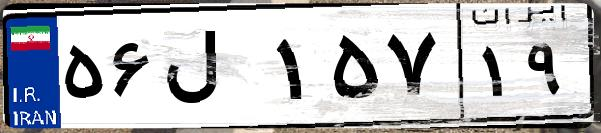1: (270, 28, 330, 110), (475, 38, 525, 113)
5: (330, 28, 385, 110), (57, 26, 110, 100)
6: (110, 28, 158, 98)
7: (385, 28, 445, 110)
9: (525, 38, 570, 115)
ل: (158, 20, 270, 120)
